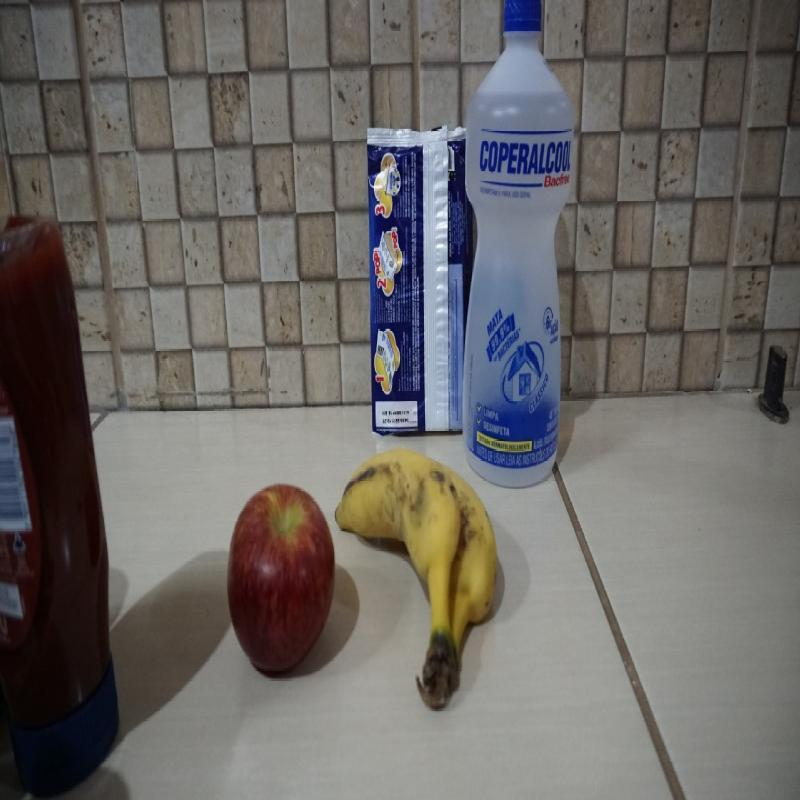Alcohol Bottle: (461, 2, 576, 490)
Apple: (226, 483, 335, 678)
Banana: (334, 448, 499, 712)
Ketchup: (0, 210, 119, 798)
Popcorn: (366, 122, 478, 438)
